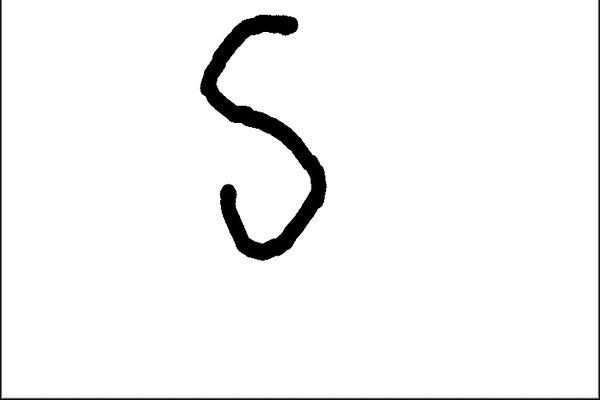S: (188, 2, 330, 266)
